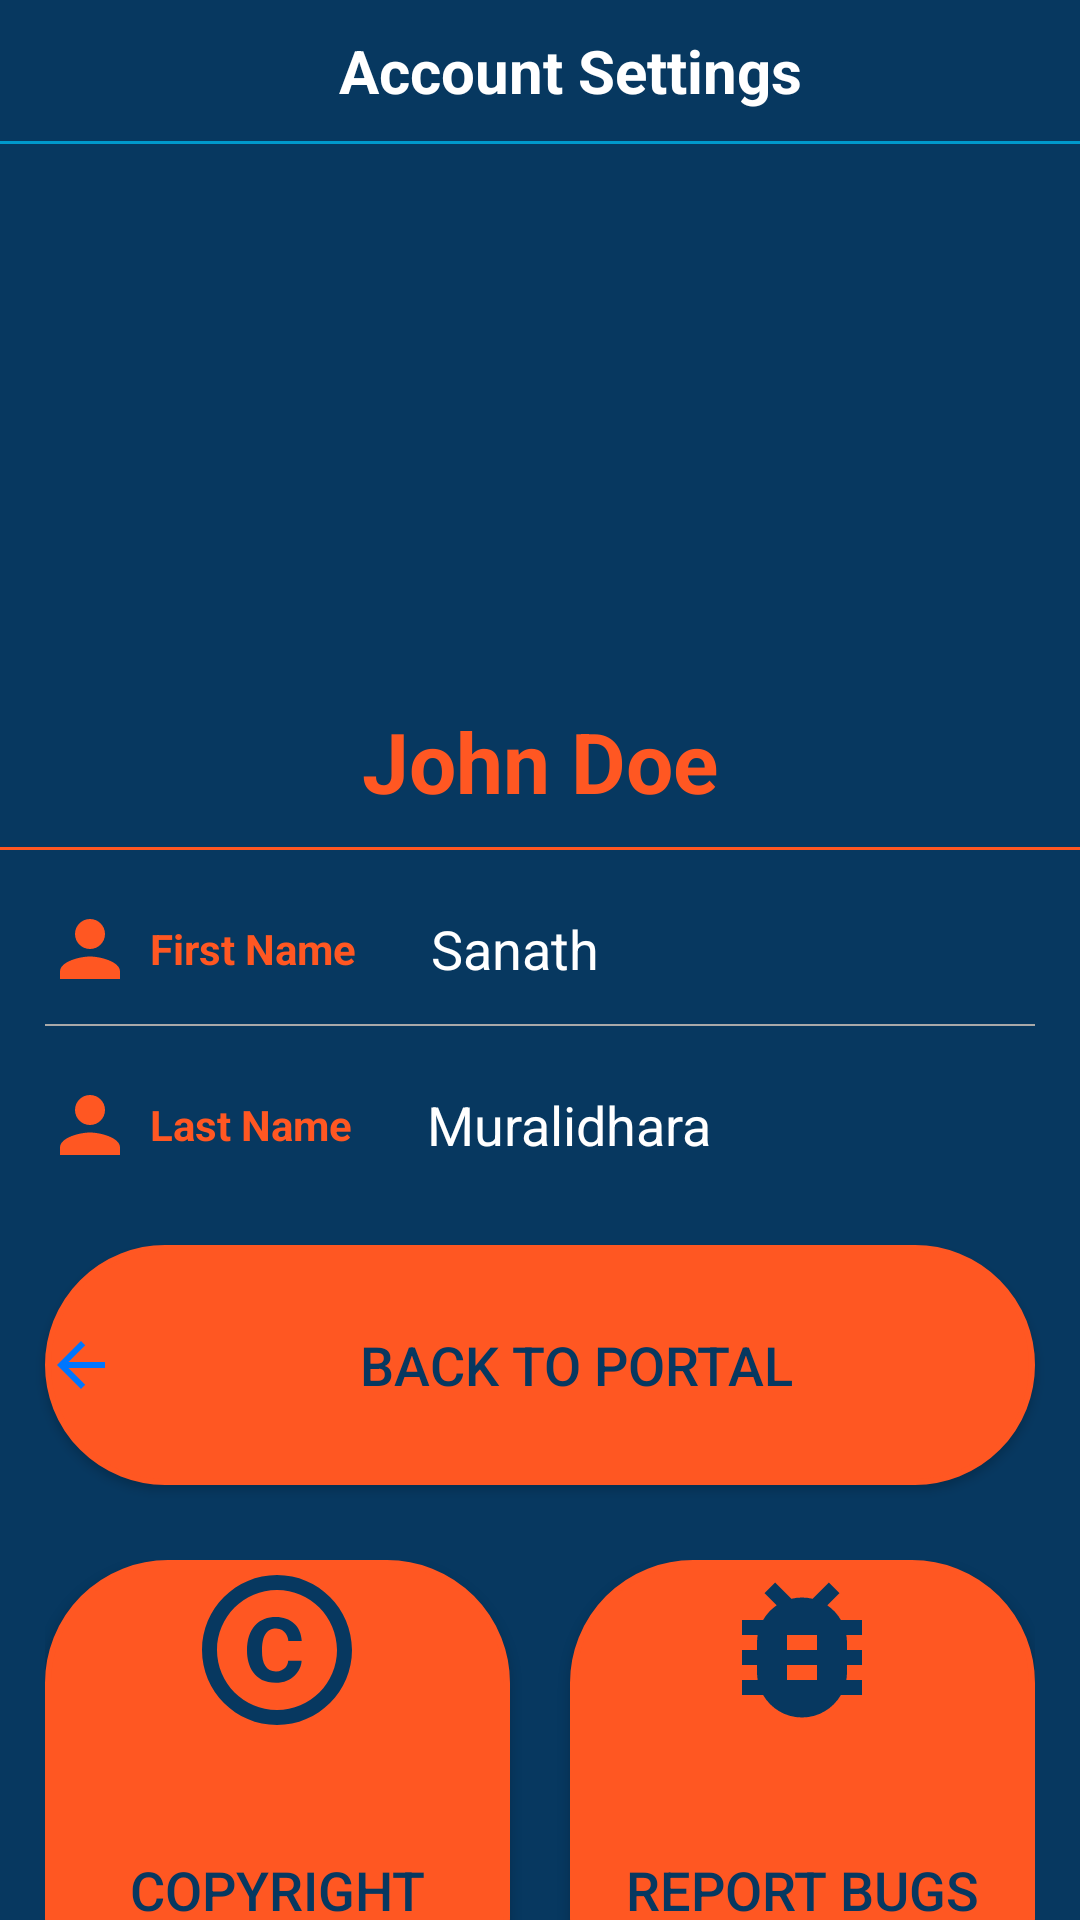

Where to tap for icons on this 1080×1920 app screen, as (x=x, y=y):
person: (x=90, y=949), (x=90, y=1125)
